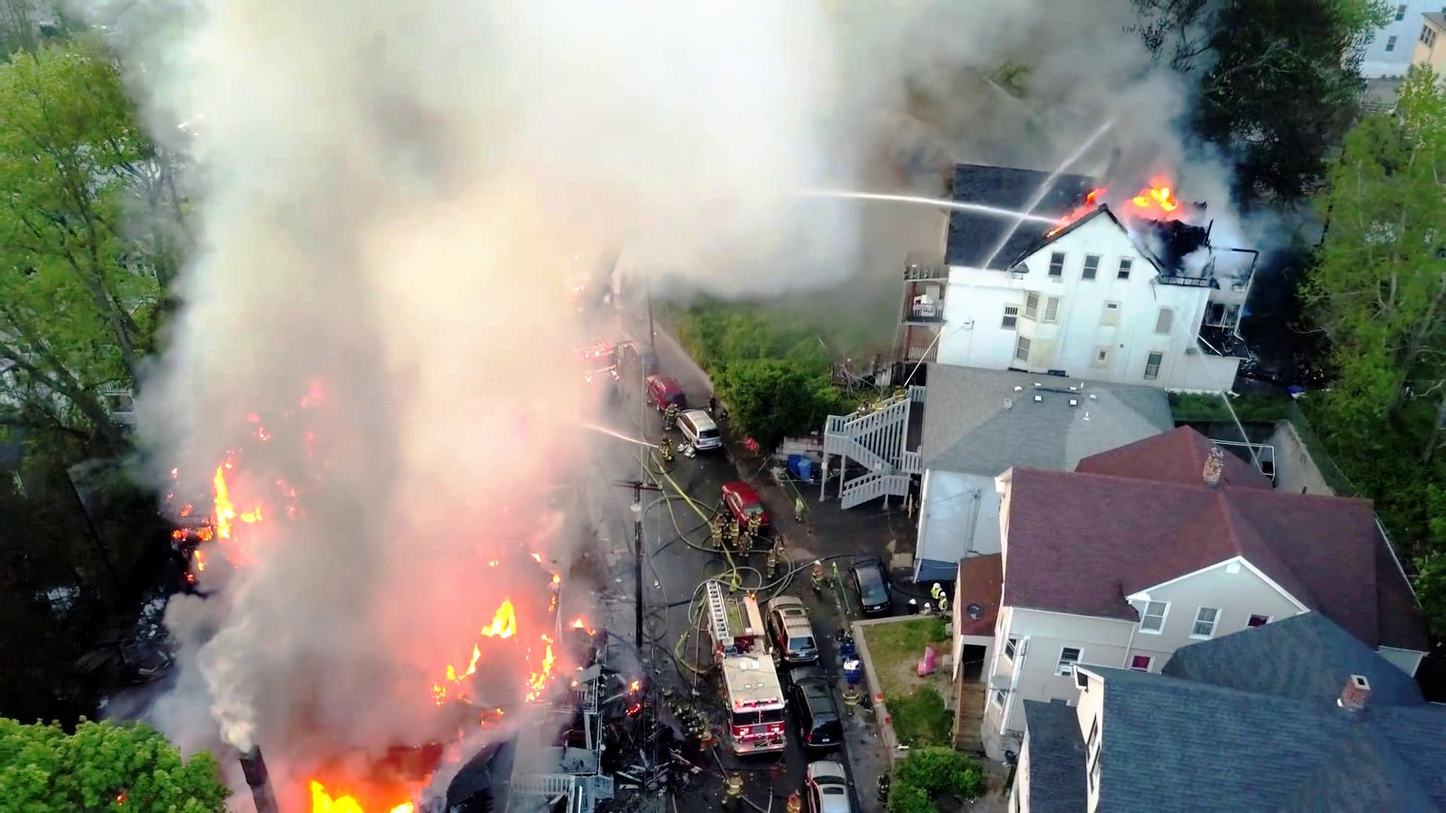fire: (445, 591, 543, 696), (197, 446, 272, 550), (296, 757, 418, 813)
smoke: (257, 467, 409, 741)
